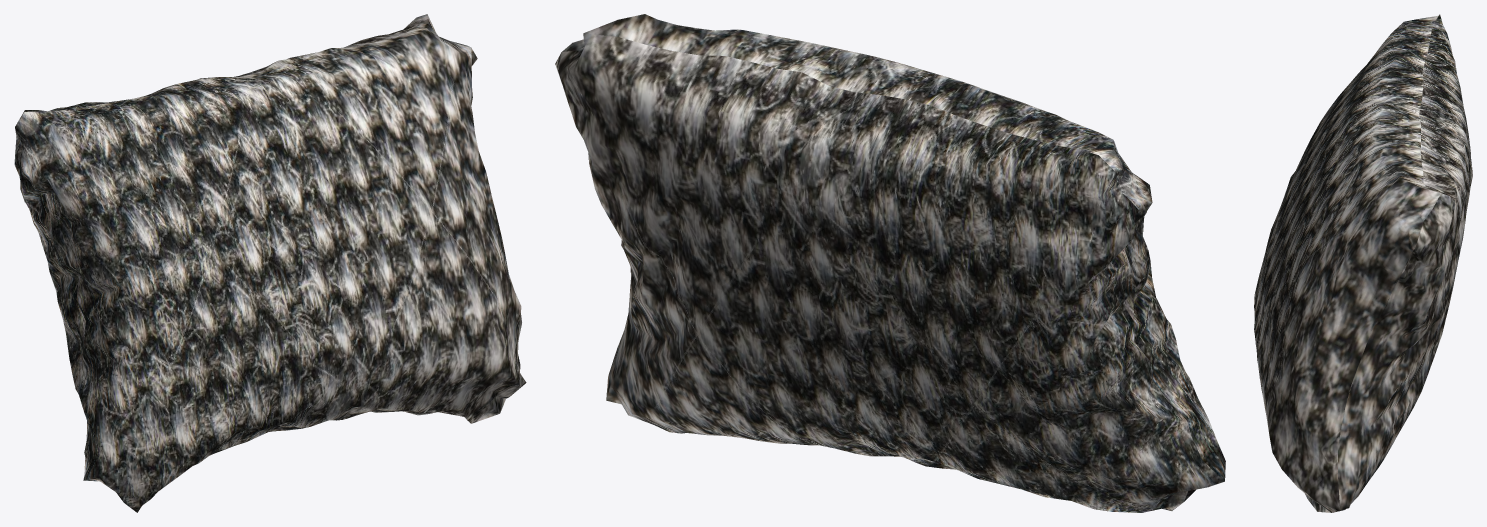
Rendered from coussin gris.FBX.
The picture shows the model from 3 angles, left to right: view 1: azimuth 30°, elevation 25°; view 2: azimuth 150°, elevation 25°; view 3: azimuth 270°, elevation 25°; orthographic projection. The views are drawn at different scales.
Visible parts, largest first — view 1: Rectangle005; view 2: Rectangle005; view 3: Rectangle005.
Boxes of the visible parts, left/top/right/bottom form: Rectangle005: left=14, top=14, right=526, bottom=512; Rectangle005: left=555, top=14, right=1225, bottom=512; Rectangle005: left=1254, top=14, right=1472, bottom=512.
Size of the model in its own units: 158 by 119 by 72.24.
